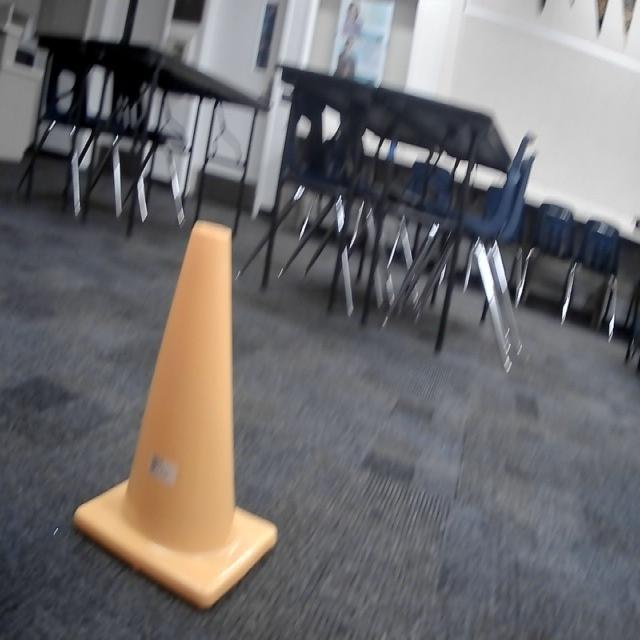cone: (67, 209, 283, 613)
